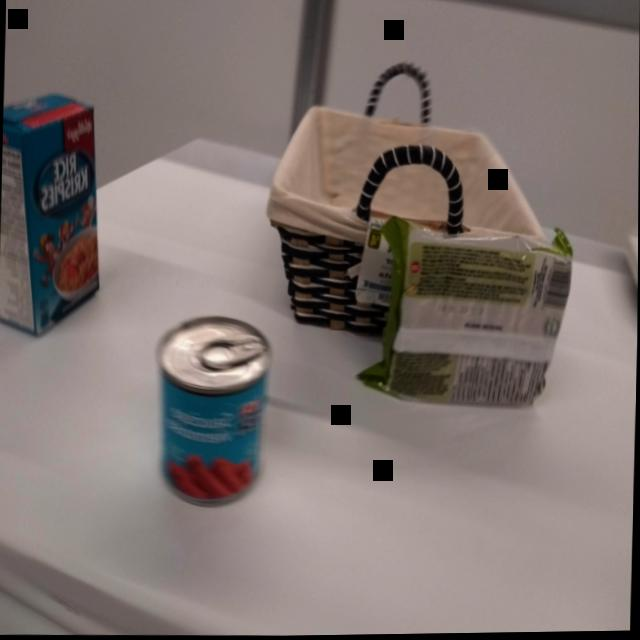cereal: (0, 85, 109, 344)
noodles: (347, 216, 578, 428)
sausages: (150, 303, 276, 514)
